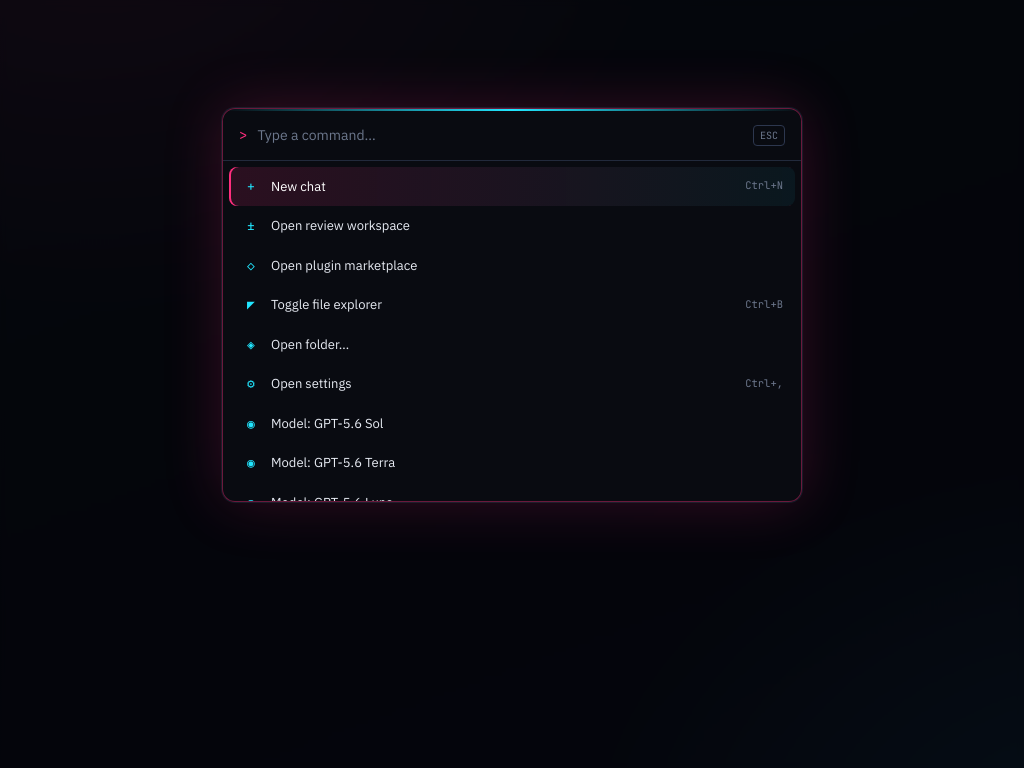
Test: filtering › narrows the list as the query is typed (case-insensitive, label match)
Type "model" into the dropdown with placeholder "Type a command…".
click(500, 135); type("model")  # box [257,124,743,146]
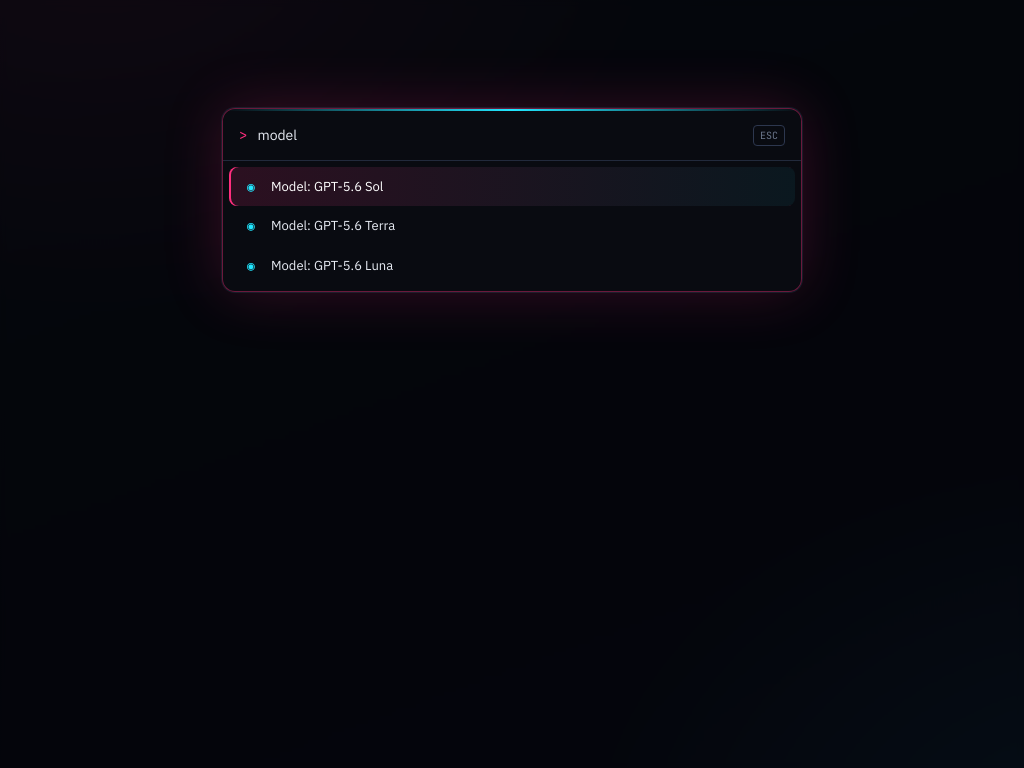
Check: the number of options is 3, box [229,166,795,206]; [229,206,795,246]; [229,246,795,285]
Check: the option "New chat" is gone
